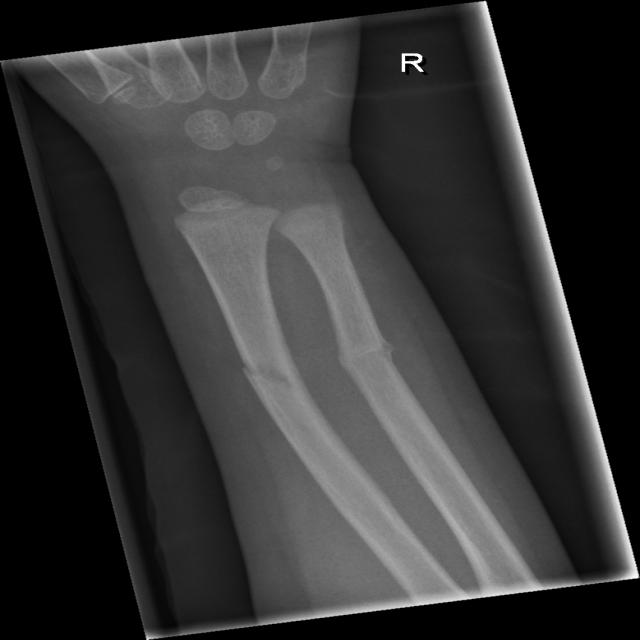radius fracture: (212, 315, 319, 423)
ulna fracture: (316, 297, 406, 403)
